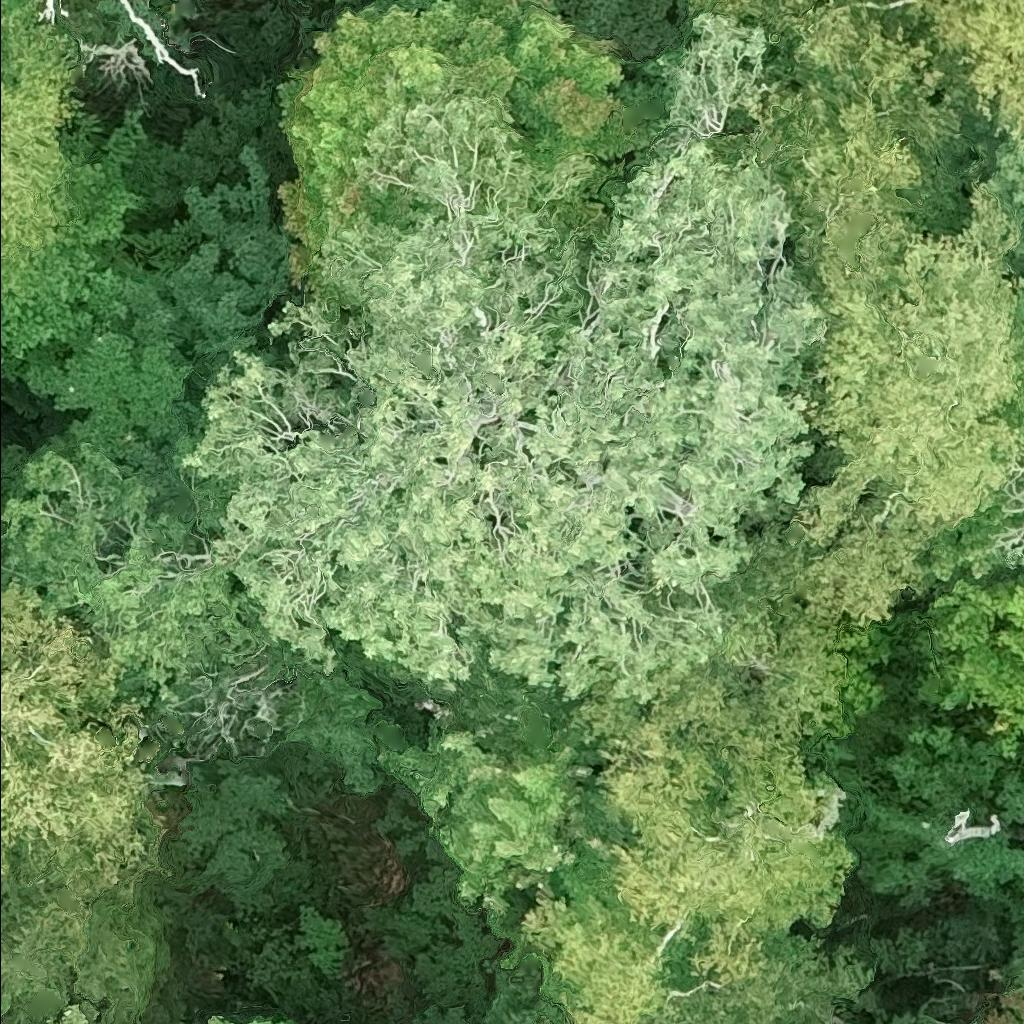crown: (12, 22, 825, 702), (708, 77, 1023, 484), (533, 629, 840, 1023), (272, 0, 622, 284), (704, 407, 1023, 657), (382, 678, 629, 911), (0, 0, 145, 363), (684, 0, 967, 169), (0, 583, 151, 887), (33, 265, 209, 477), (158, 147, 291, 395), (849, 0, 1023, 145), (915, 576, 1023, 757), (119, 0, 199, 90), (45, 1012, 105, 1023), (1006, 526, 1023, 553), (1005, 466, 1023, 484), (37, 0, 54, 19), (999, 505, 1023, 517), (399, 0, 432, 5), (211, 1018, 236, 1023), (0, 861, 4, 878), (1017, 1020, 1023, 1023)
